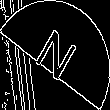N_SW: (29, 23, 81, 87)
